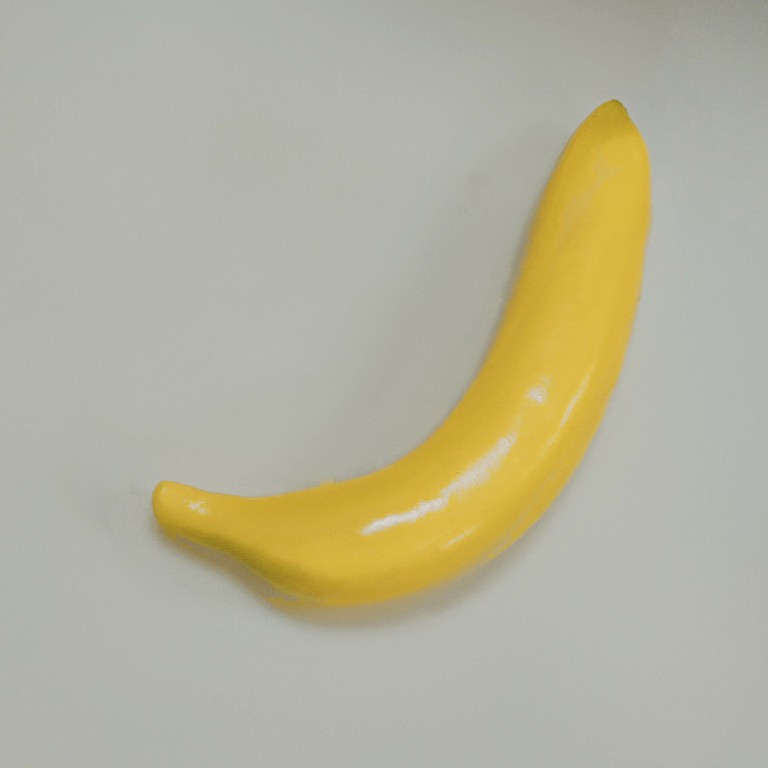fruit_banana: (146, 93, 659, 616)
